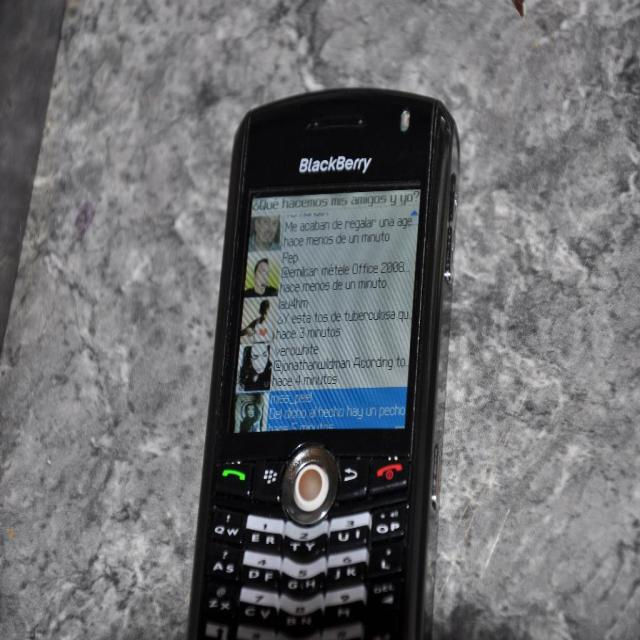Mobile-phone: (188, 75, 467, 638)
